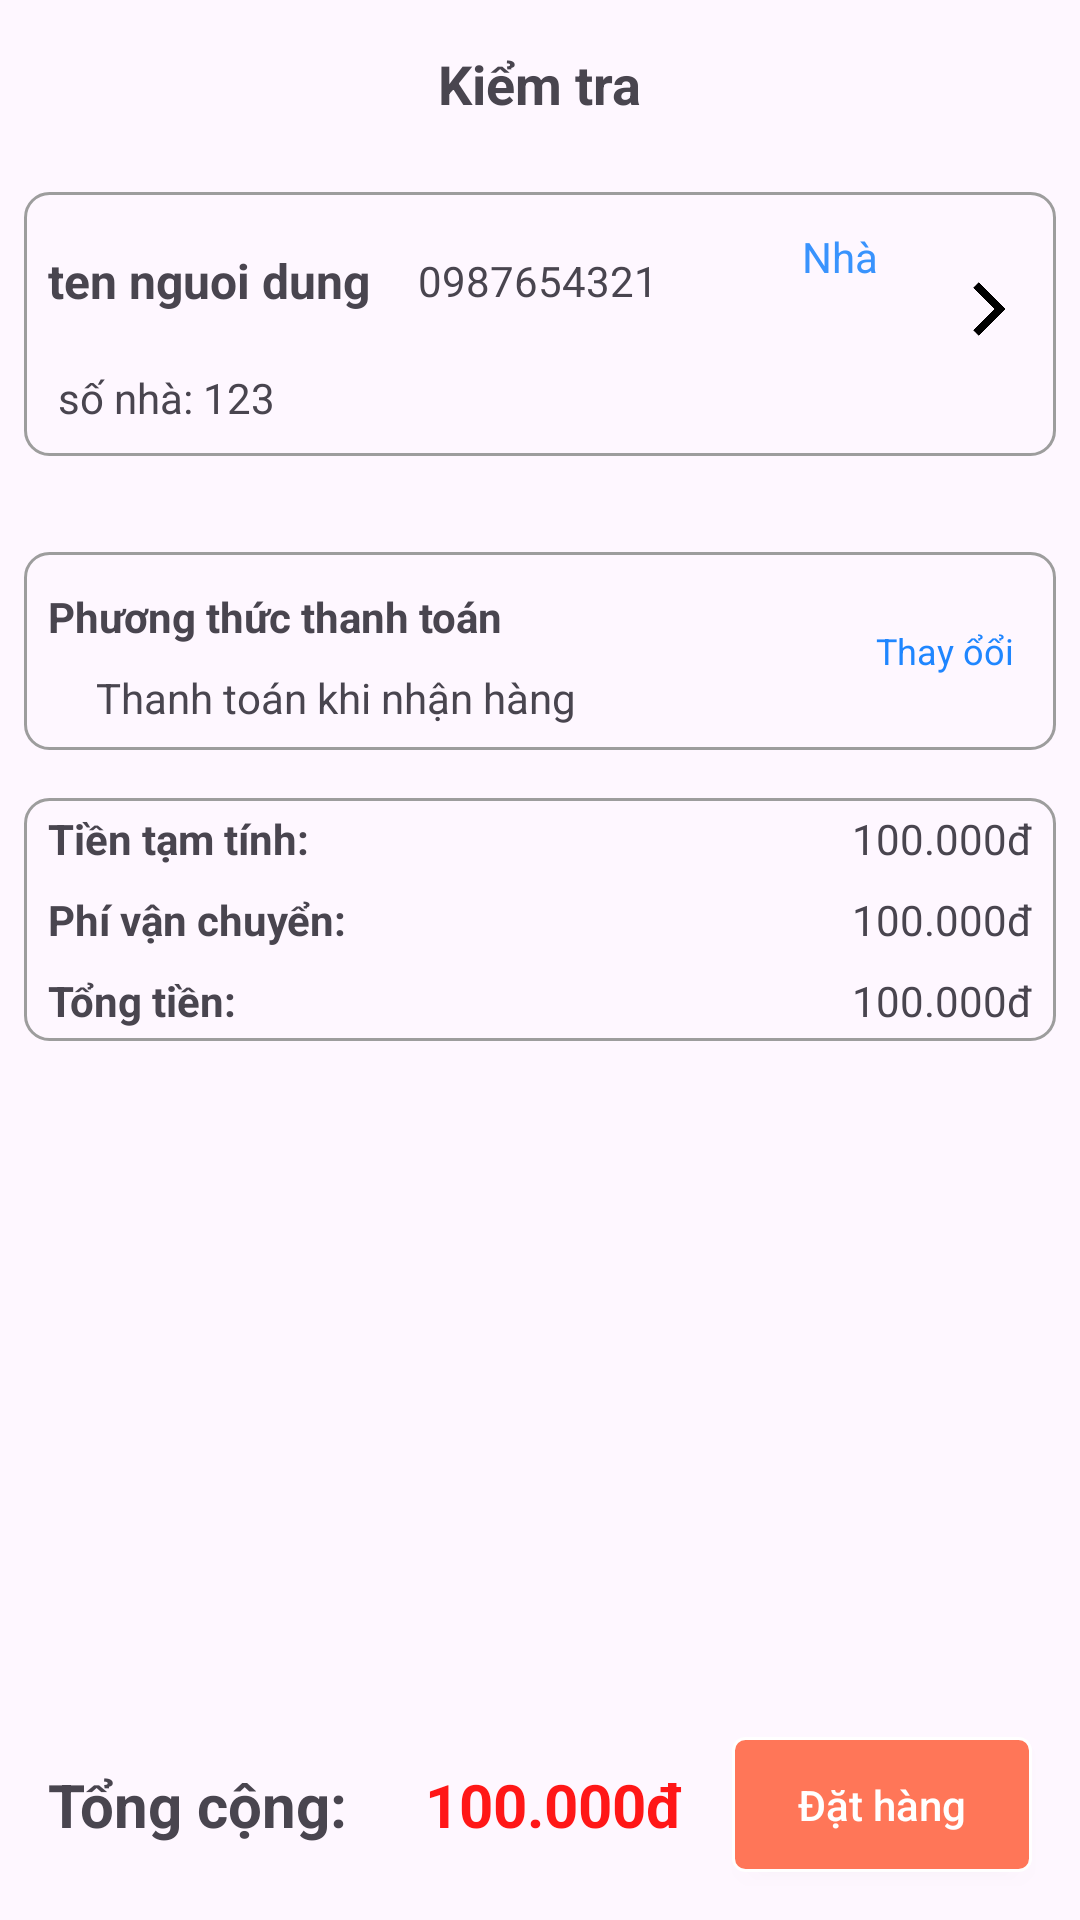

Icons on this 1080 × 1920 Android screen, each with its box as (x1, y1, x2, y2):
next: (973, 282, 1005, 336)
